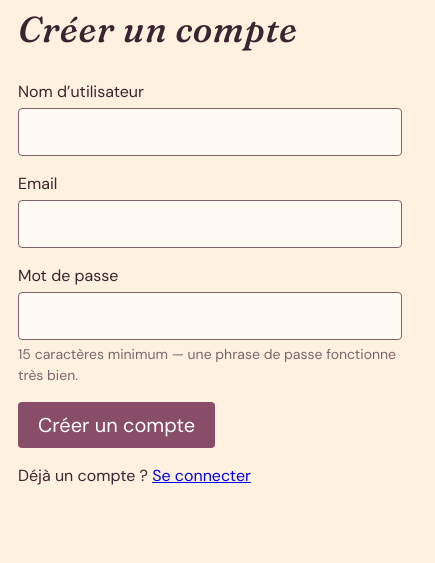
Test: RegisterPage › affiche le message générique si le backend rejette la requête (400)
Type "marcel" into the field labelled "Nom d’utilisateur" at (210, 132), box [18,108,402,156]
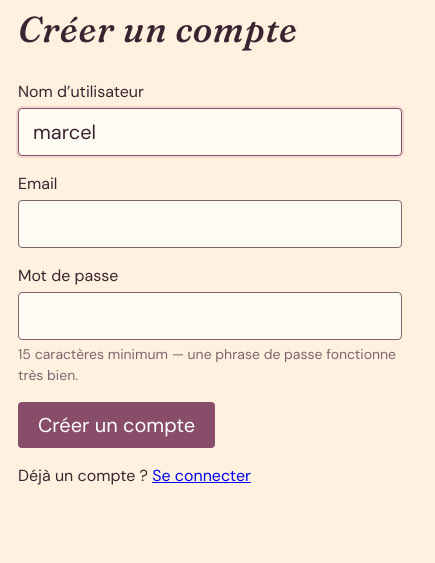
Type "marcel@example.com" into the field labelled "Email" at (210, 224), box [18,200,402,248]
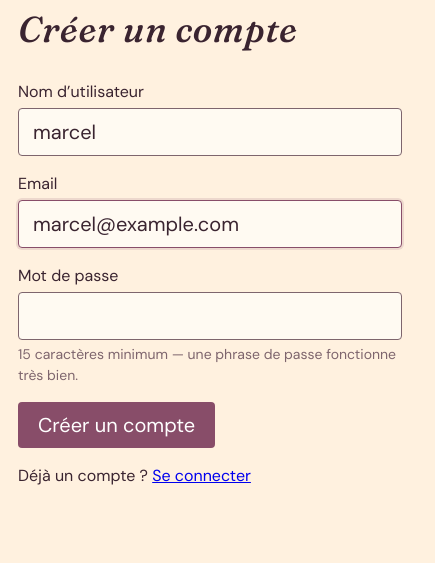
Type "hunter2222password" into the password field labelled "Mot de passe" at (210, 316), box [18,292,402,340]
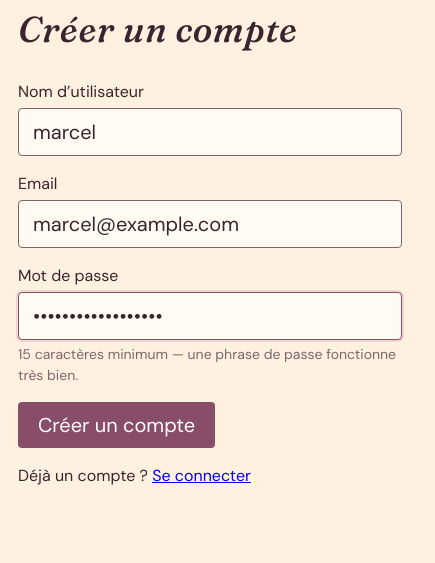
Click the button "Créer un compte" at (117, 425), box [18,402,215,448]
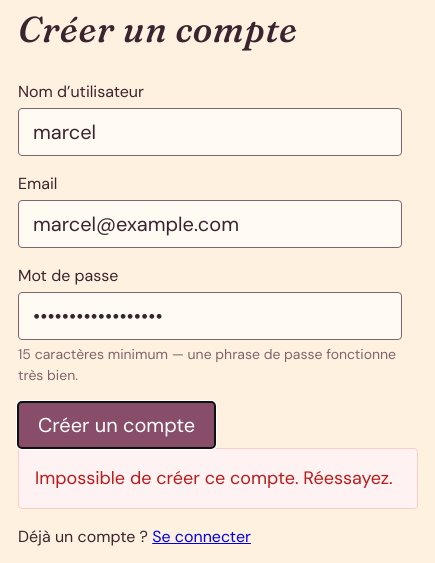
Result: the text "Impossible de créer ce compte. Réessayez." is shown at [18,448,418,509]
